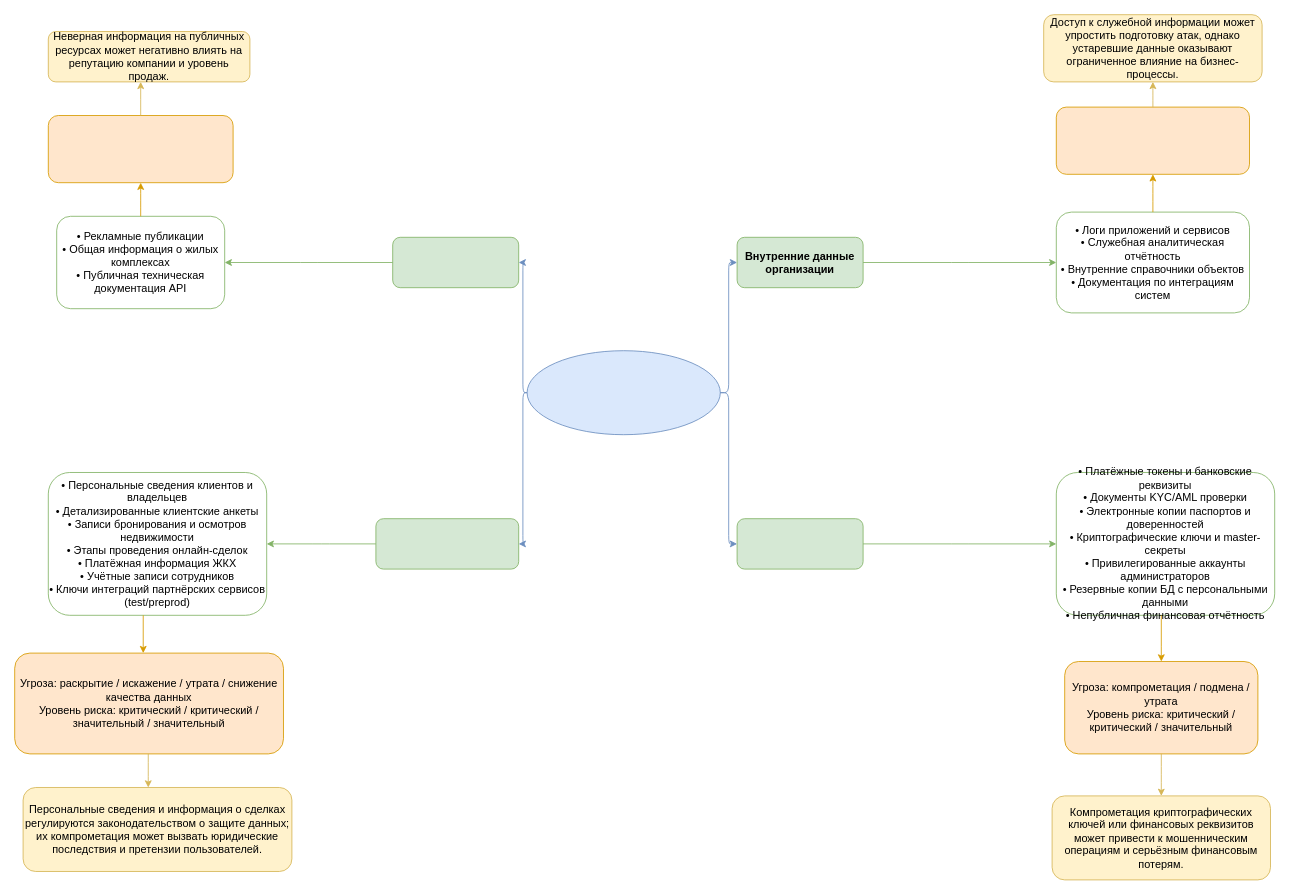
This 1289x895 diagram has some shape labels left out. Each missing label, with the box of its shape:
Защита корпоративных данных: (526, 350, 720, 435)
Конфиденциальная информация: (375, 518, 519, 569)
Особо защищаемые данные: (736, 518, 863, 569)
Открытые данные: (392, 236, 519, 288)
Угроза: изменение или некорректность информации Уровень риска: значительный: (47, 115, 233, 183)
Угроза: раскрытие или устаревание данных Уровень риска: значительный / низкий: (1055, 106, 1250, 174)
